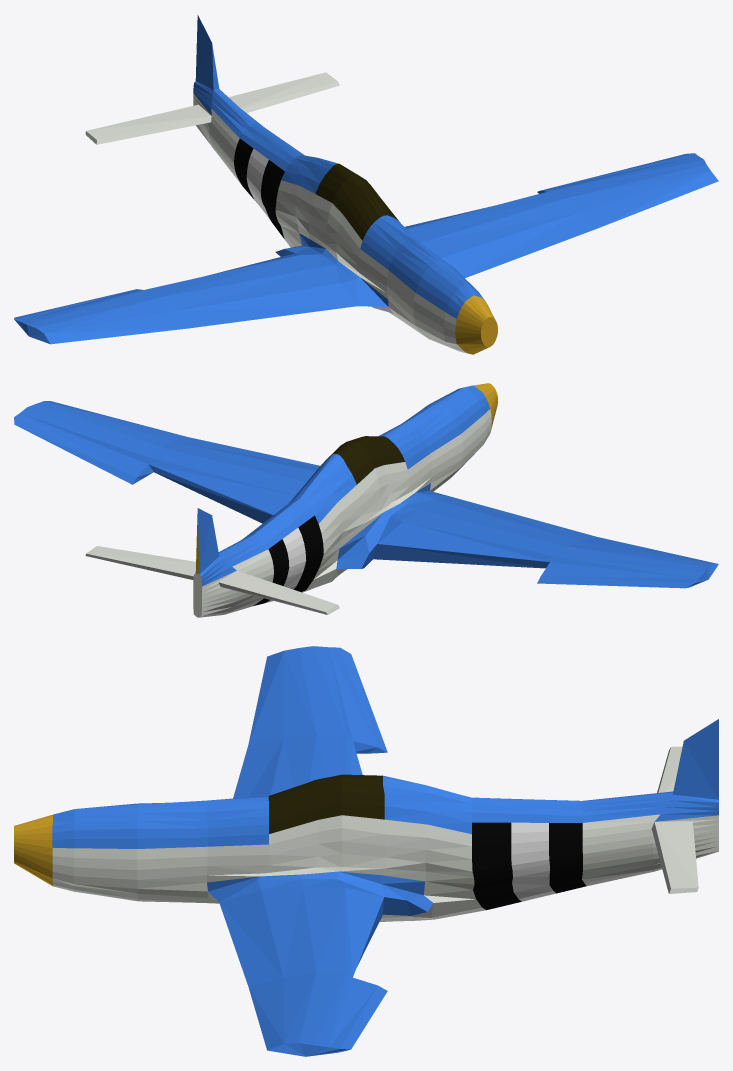
The model's file is body.dae.
3 renders of one model, top to bottom at view 1: azimuth 30°, elevation 25°; view 2: azimuth 150°, elevation 25°; view 3: azimuth 270°, elevation 25°, orthographic. The views are drawn at different scales.
Visible parts, largest first — view 1: Cylinder; view 2: Cylinder; view 3: Cylinder.
Boxes of the visible parts, left/top/right/bottom form: Cylinder: left=14, top=15, right=718, bottom=354; Cylinder: left=14, top=383, right=718, bottom=617; Cylinder: left=14, top=646, right=718, bottom=1056.
Bounding box in the file's own units: 37.57 × 27.9 × 8.89.
